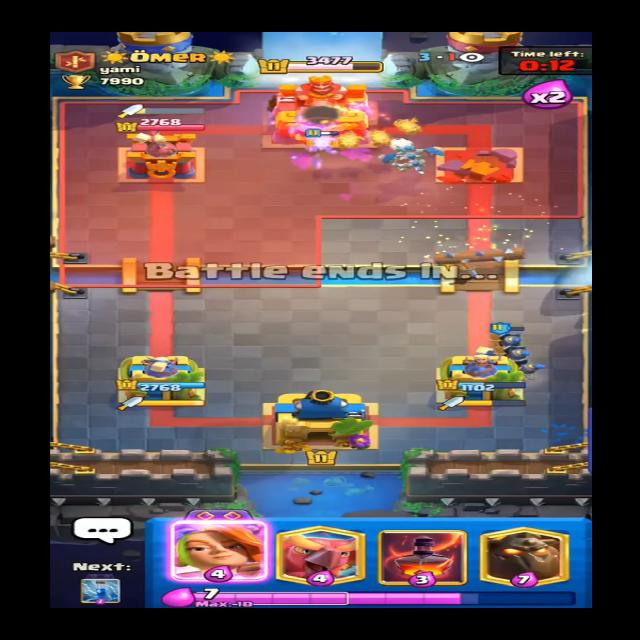Log: (425, 244, 536, 264)
